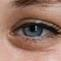eye: (24, 25, 43, 37)
